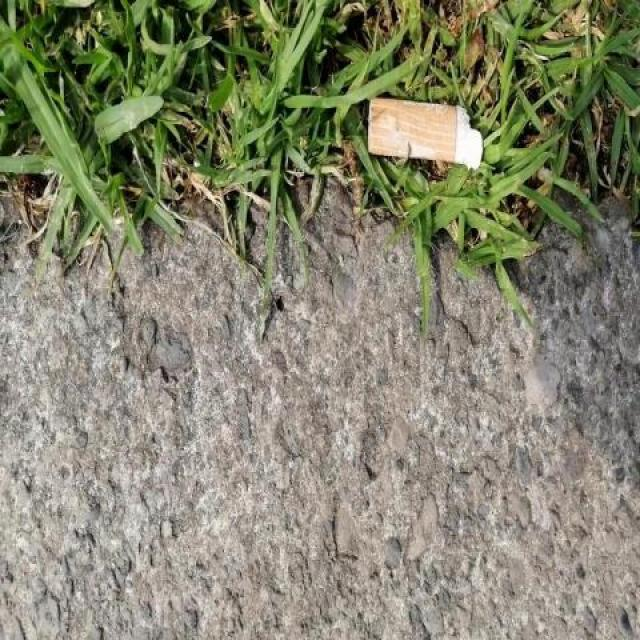non-organic waste: (360, 93, 488, 170)
